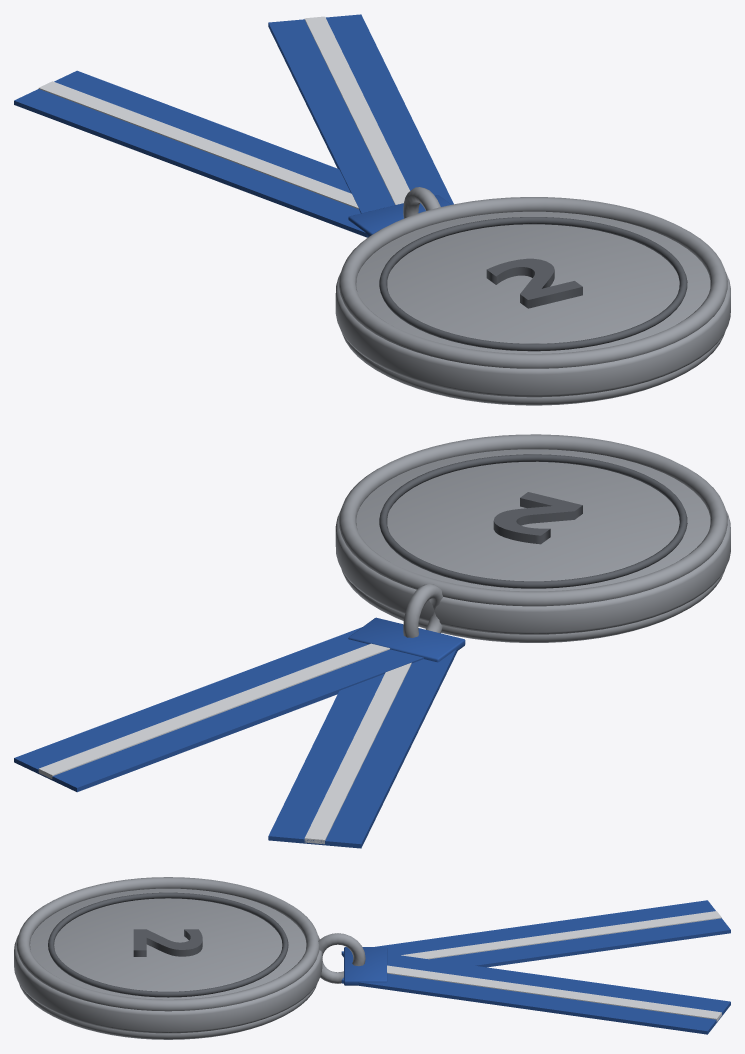
File: medal.glb
3 views of the same model, one above another, from view 1: azimuth 30°, elevation 25°; view 2: azimuth 150°, elevation 25°; view 3: azimuth 270°, elevation 25° (orthographic). The views are drawn at different scales.
Visible parts, largest first — view 1: Disc, Ribbon, Rim, Stripe, Number, Loop; view 2: Disc, Ribbon, Rim, Stripe, Number, Loop; view 3: Disc, Ribbon, Rim, Stripe, Number, Loop.
Part boxes in pixels (box(x1,y1,x2,y2)): Disc: box(335, 211, 730, 397); Ribbon: box(14, 14, 453, 237); Rim: box(339, 197, 727, 405); Stripe: box(38, 16, 409, 209); Number: box(486, 258, 582, 308); Loop: box(403, 187, 440, 218); Disc: box(335, 449, 730, 634); Ribbon: box(14, 617, 465, 848); Rim: box(339, 434, 727, 642); Stripe: box(38, 643, 411, 844); Number: box(493, 492, 582, 544); Loop: box(403, 584, 442, 637); Disc: box(14, 888, 322, 1033); Ribbon: box(341, 900, 730, 1034); Rim: box(16, 877, 319, 1039); Stripe: box(387, 911, 721, 1021); Number: box(133, 929, 202, 956); Loop: box(318, 933, 365, 983).
Bounding box in the file's own units: 1.01 × 0.18 × 2.32.
